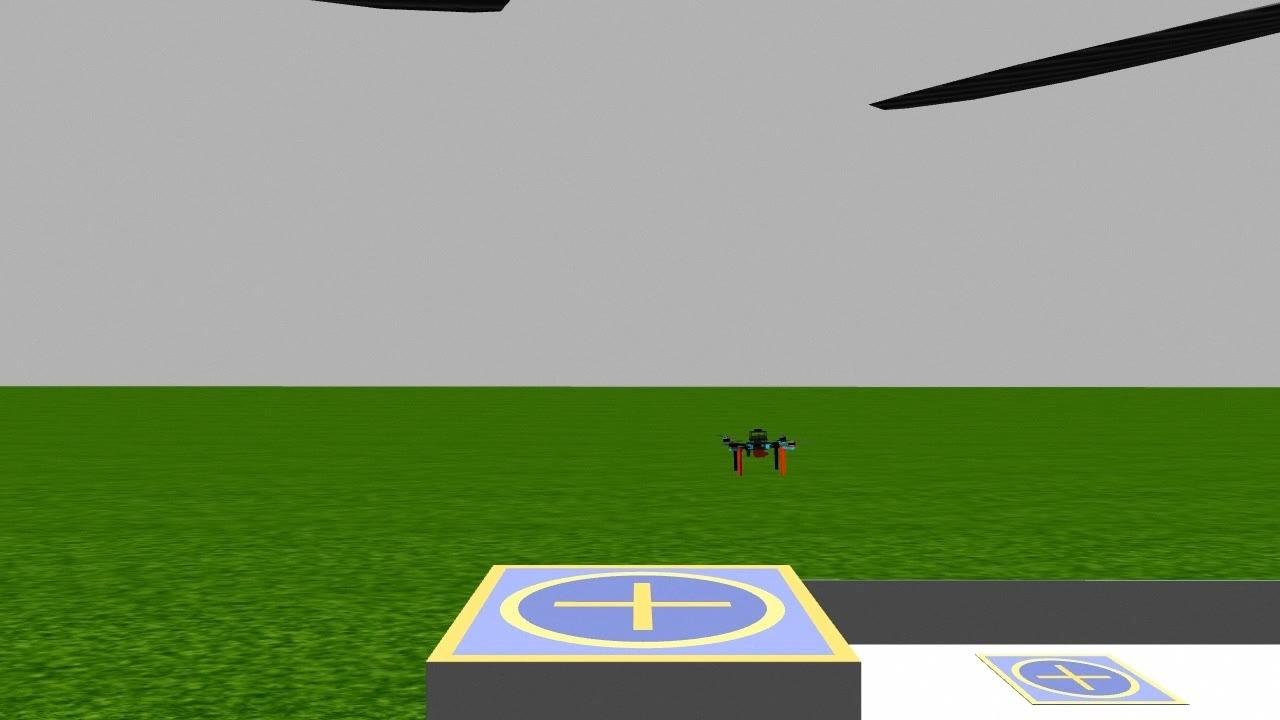UAV: (703, 409, 799, 490)
